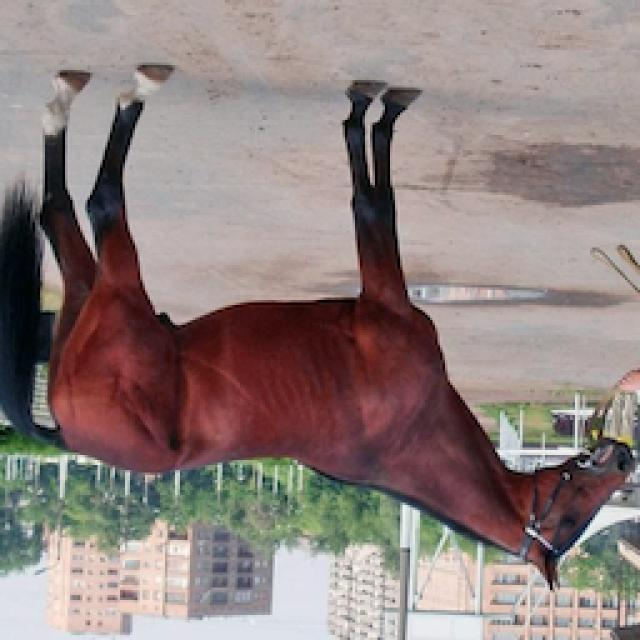Horse: (2, 60, 640, 598)
